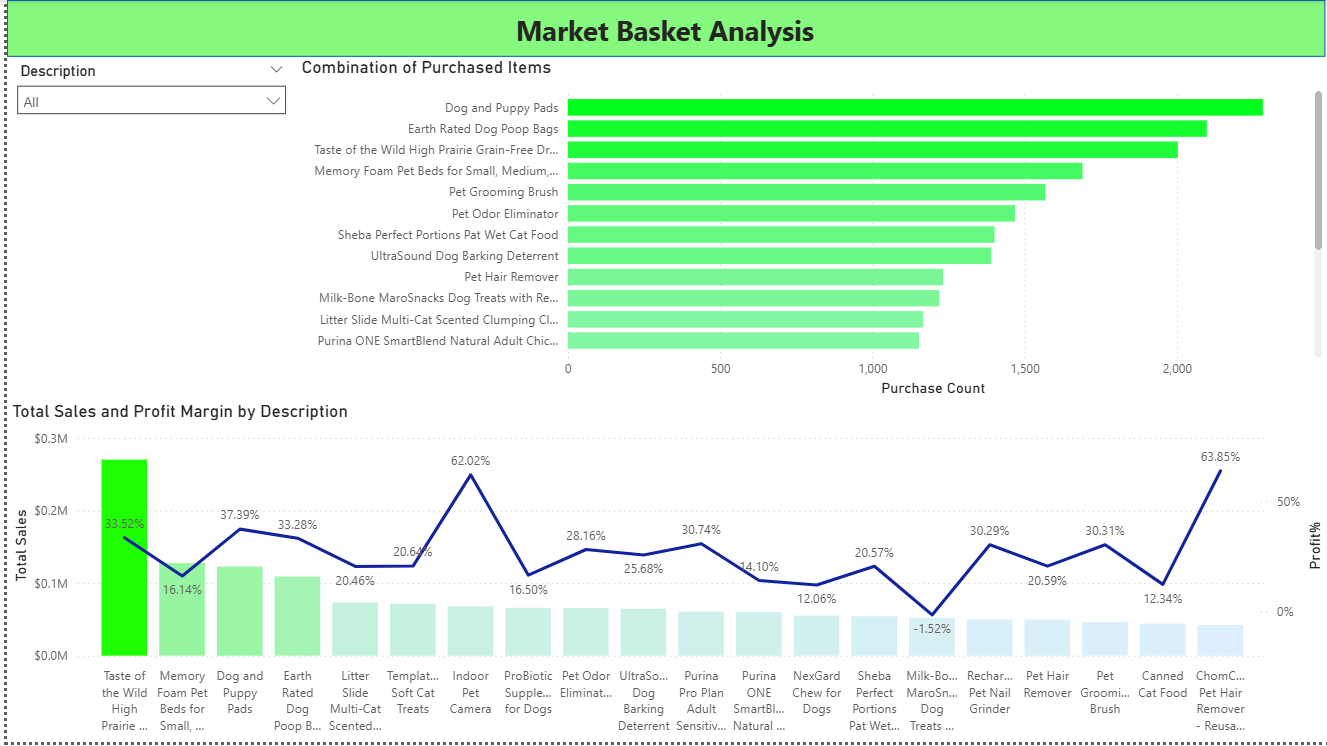

What the dashboard file says about the page in this screenshot:
{"tool":"powerbi","page":{"name":"Market Basket Analysis","canvas":[1280,720],"ordinal":2},"visuals":[{"type":"slicer","fields":{"Values":["fact_sales.Description"]},"box":[0,55.2,280.8,333.5],"z":0},{"type":"clusteredBarChart","title":"Combination of Purchased Items","fields":{"Category":["Market Basket.Description"],"Y":["CountNonNull(Market Basket.Quantity)"]},"box":[280.8,55.2,1000.3,333.5],"z":1000},{"type":"lineClusteredColumnComboChart","title":"Total Sales and Profit Margin by Description","fields":{"Y":["Sum(fact_sales.Sales)"],"Y2":["fact_sales.Profit%"],"Category":["fact_sales.Description"]},"box":[0,388.7,1281,330.3],"z":2000},{"type":"shape","box":[0,0,1279.3,55.2],"z":3000},{"type":"textbox","box":[367.2,5.2,543.1,46.6],"z":4000}]}

Visuals, with their boxes in screenshot pixels (x1, y1, x2, y2), scaled from the page's 1280x720 canvas onto the 1327x746 screenshot:
slicer - fact_sales.Description: (x1=0, y1=57, x2=291, y2=403)
"Combination of Purchased Items" clusteredBarChart: (x1=291, y1=57, x2=1326, y2=403)
"Total Sales and Profit Margin by Description" lineClusteredColumnComboChart: (x1=0, y1=403, x2=1326, y2=745)
shape: (x1=0, y1=0, x2=1326, y2=57)
textbox: (x1=381, y1=5, x2=944, y2=54)
